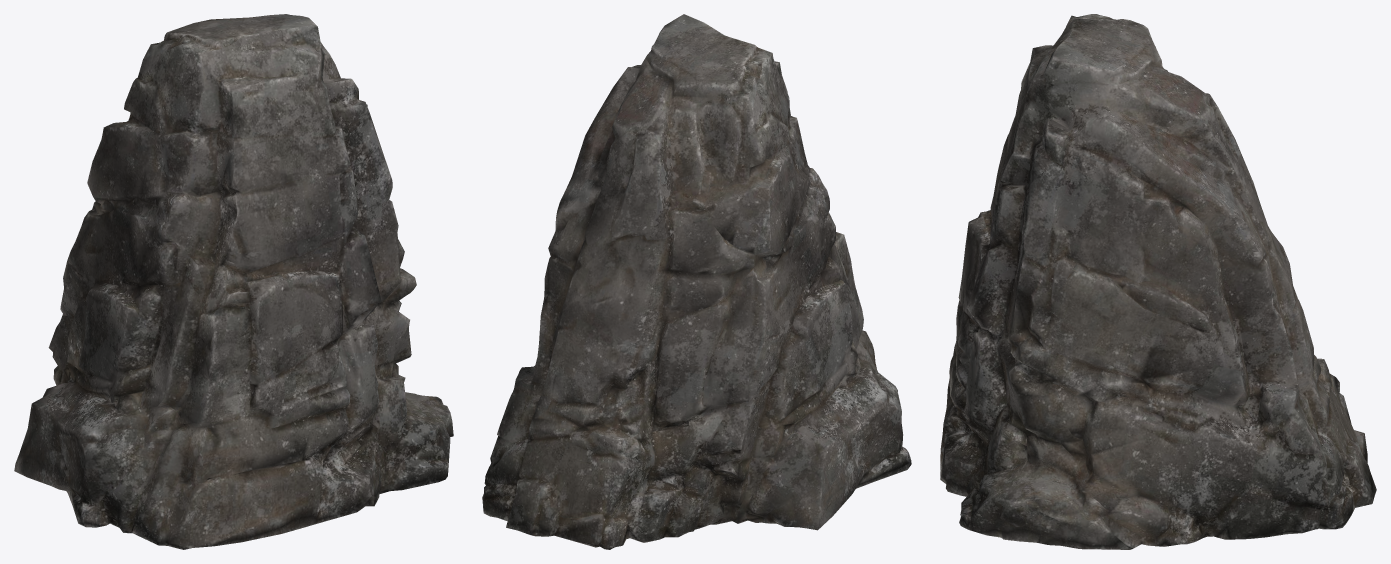
File: Muspelheim_Basalt_Boulder.glb
The picture shows the model from 3 angles, left to right: view 1: azimuth 30°, elevation 25°; view 2: azimuth 150°, elevation 25°; view 3: azimuth 270°, elevation 25°; orthographic projection. The views are drawn at different scales.
Visible parts, largest first — view 1: low_poly; view 2: low_poly; view 3: low_poly.
Boxes of the visible parts, x1=… form: low_poly: x1=14, y1=14, x2=453, y2=549; low_poly: x1=482, y1=14, x2=911, y2=549; low_poly: x1=940, y1=14, x2=1376, y2=549.
Bounding box in the file's own units: 0.0224 × 0.0272 × 0.0243.
Materials: 1 (1 with a texture image).
